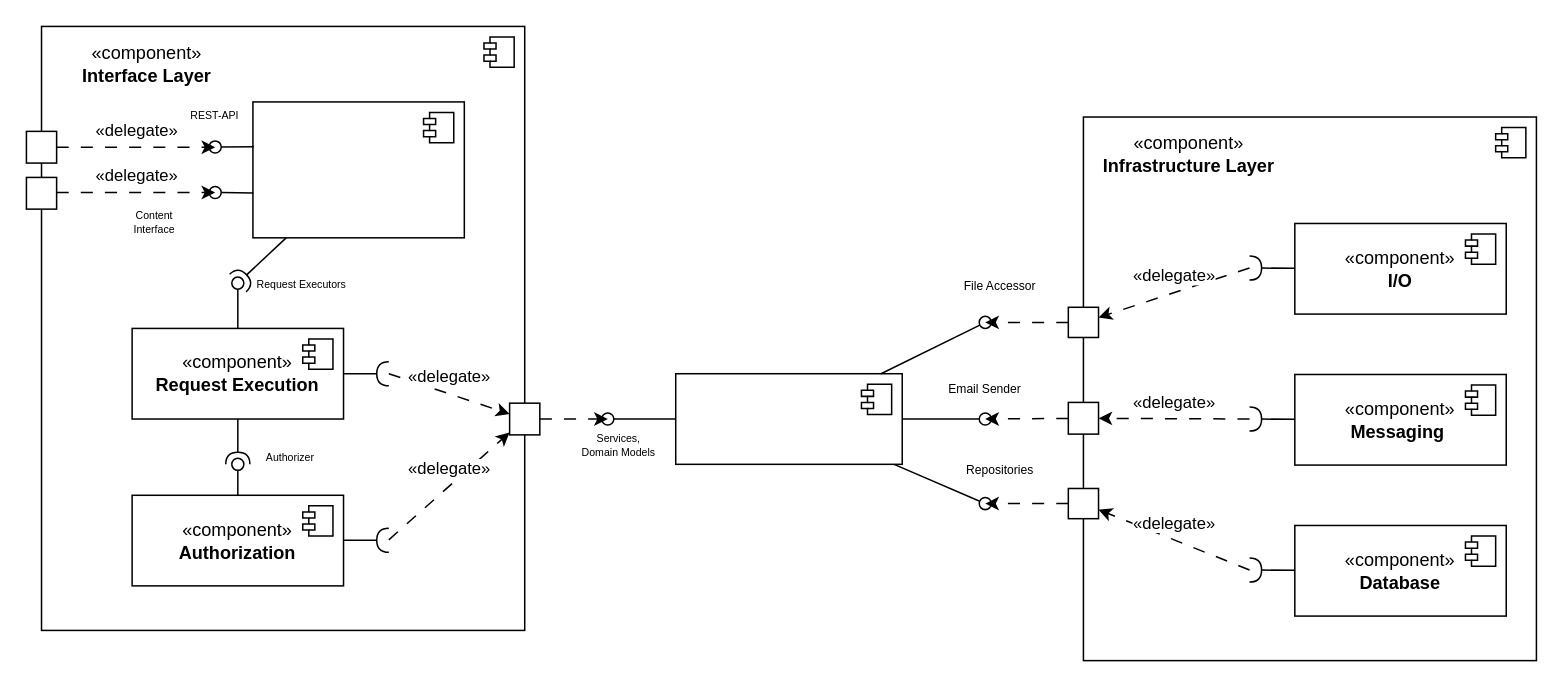
This 1563x687 diagram has some shape labels left out. Each missing label, with the centre of its shape:
"«component» Domain" belongs at pixel 788 418.
"«component» Request Dispatching" belongs at pixel 357 169.
